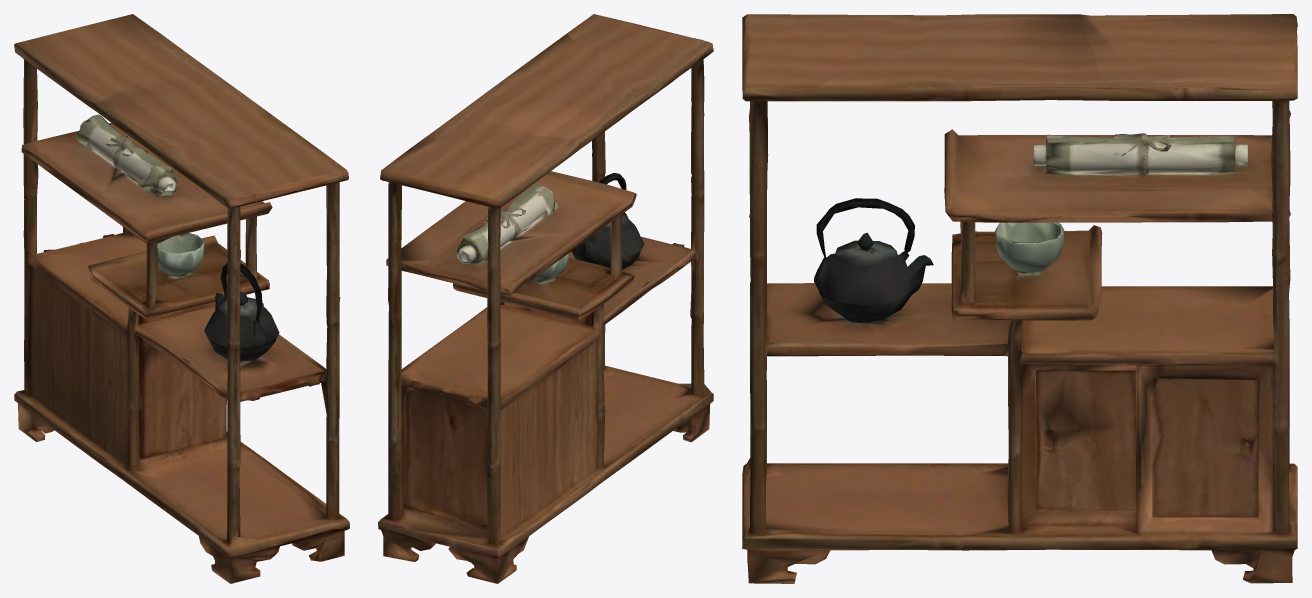
Rendered from au_furn_shelf_zen.glb.
3 renders of one model, left to right at view 1: azimuth 30°, elevation 25°; view 2: azimuth 150°, elevation 25°; view 3: azimuth 270°, elevation 25°, orthographic. The views are drawn at different scales.
Parts seen in each view (by area): view 1: tripo_node_2b729f87-b03f-4802-a485-e71fd81460bc; view 2: tripo_node_2b729f87-b03f-4802-a485-e71fd81460bc; view 3: tripo_node_2b729f87-b03f-4802-a485-e71fd81460bc.
Boxes of the visible parts, box(x1,y1,x2,y2) form: tripo_node_2b729f87-b03f-4802-a485-e71fd81460bc: box(14, 14, 349, 583); tripo_node_2b729f87-b03f-4802-a485-e71fd81460bc: box(378, 14, 713, 583); tripo_node_2b729f87-b03f-4802-a485-e71fd81460bc: box(742, 14, 1297, 583).
Bounding box in the file's own units: 0.3293 × 0.9677 × 0.9796.
Materials: 1 (1 with a texture image).
